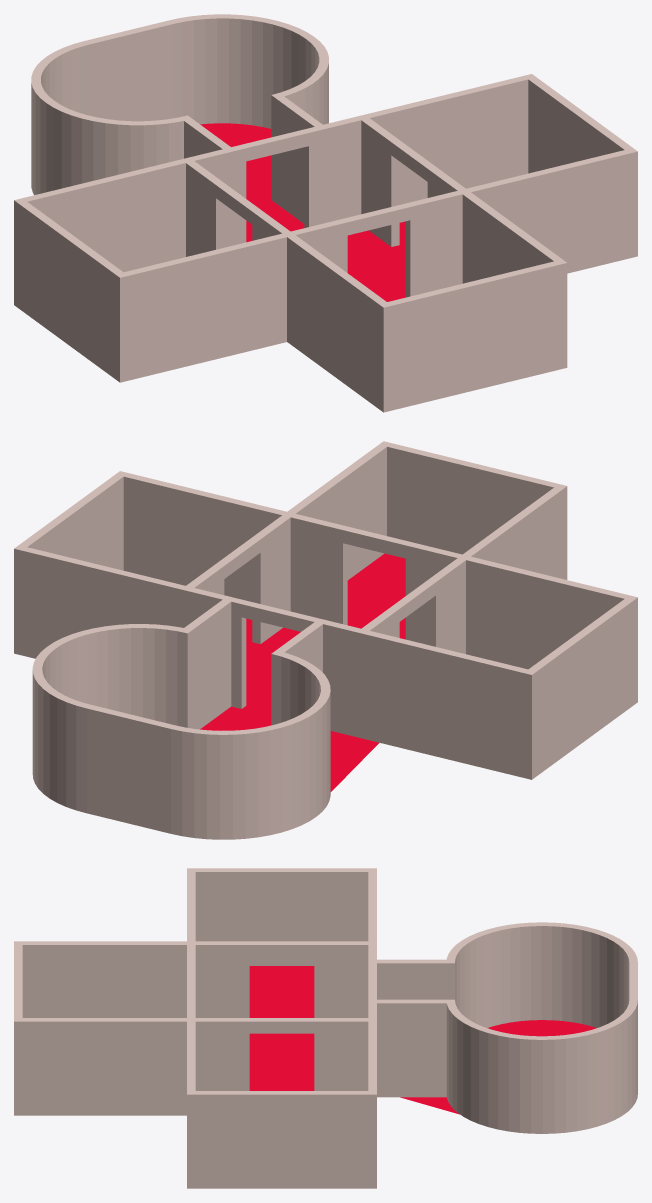
The model's file is musee.fbx.
The picture shows the model from 3 angles, top to bottom: view 1: azimuth 30°, elevation 25°; view 2: azimuth 150°, elevation 25°; view 3: azimuth 270°, elevation 25°; orthographic projection. The views are drawn at different scales.
Visible parts, largest first — view 1: Room, Room.001, Room.002, Floor, Room.004, Room.003; view 2: Room, Room.001, Floor, Room.002, Room.004, Room.003; view 3: Room, Room.003, Room.004, Floor, Room.001.
Boxes of the visible parts, bbox=[...] form: Room: bbox=[14, 14, 637, 412]; Room.001: bbox=[283, 189, 469, 297]; Room.002: bbox=[181, 116, 361, 247]; Floor: bbox=[200, 123, 405, 301]; Room.004: bbox=[361, 118, 469, 246]; Room.003: bbox=[186, 160, 293, 256]; Room: bbox=[14, 441, 637, 839]; Room.001: bbox=[283, 512, 469, 644]; Floor: bbox=[200, 553, 405, 791]; Room.002: bbox=[181, 589, 364, 738]; Room.004: bbox=[181, 512, 290, 644]; Room.003: bbox=[356, 555, 469, 734]; Room: bbox=[14, 868, 637, 1188]; Room.003: bbox=[187, 941, 376, 1017]; Room.004: bbox=[187, 1018, 376, 1090]; Floor: bbox=[249, 966, 596, 1114]; Room.001: bbox=[187, 942, 195, 1017].
Bounding box in the file's own units: 1240 × 240 × 1443.
